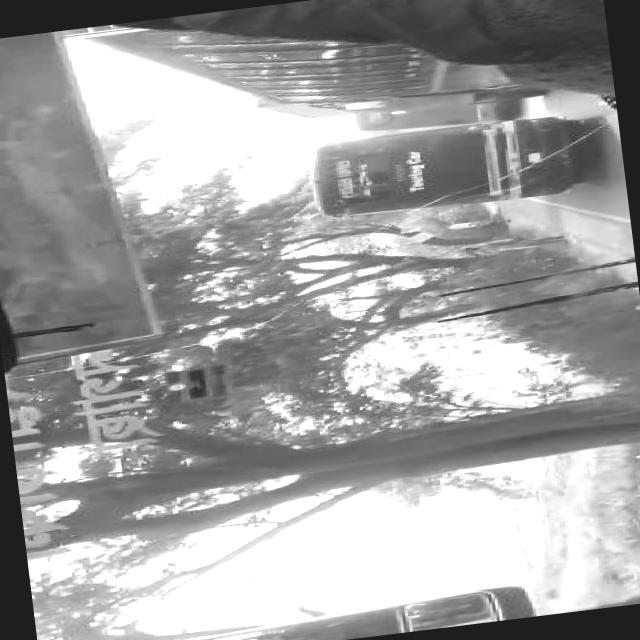bus: (80, 0, 511, 138), (302, 112, 586, 224), (347, 102, 501, 138)
truck: (255, 76, 534, 128)
